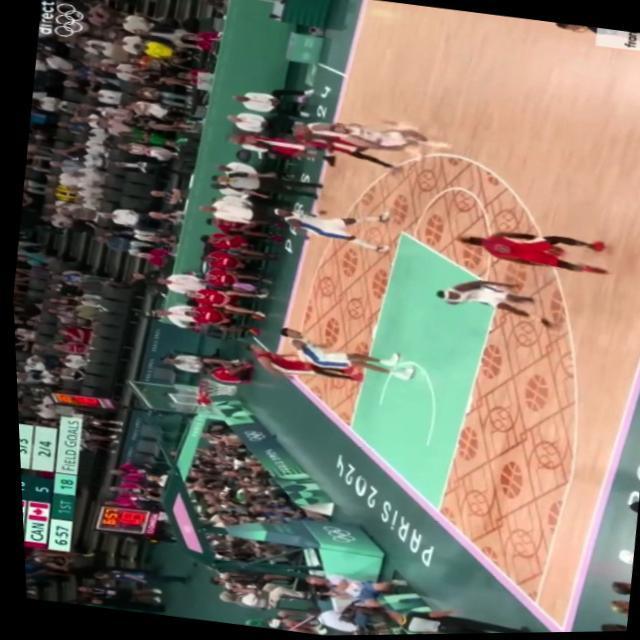ball_handler: (453, 217, 615, 284)
